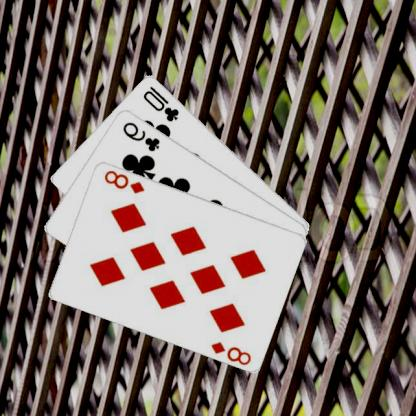10C: (142, 83, 183, 123)
8D: (209, 338, 255, 366), (103, 167, 148, 195)
9C: (122, 119, 163, 153)
